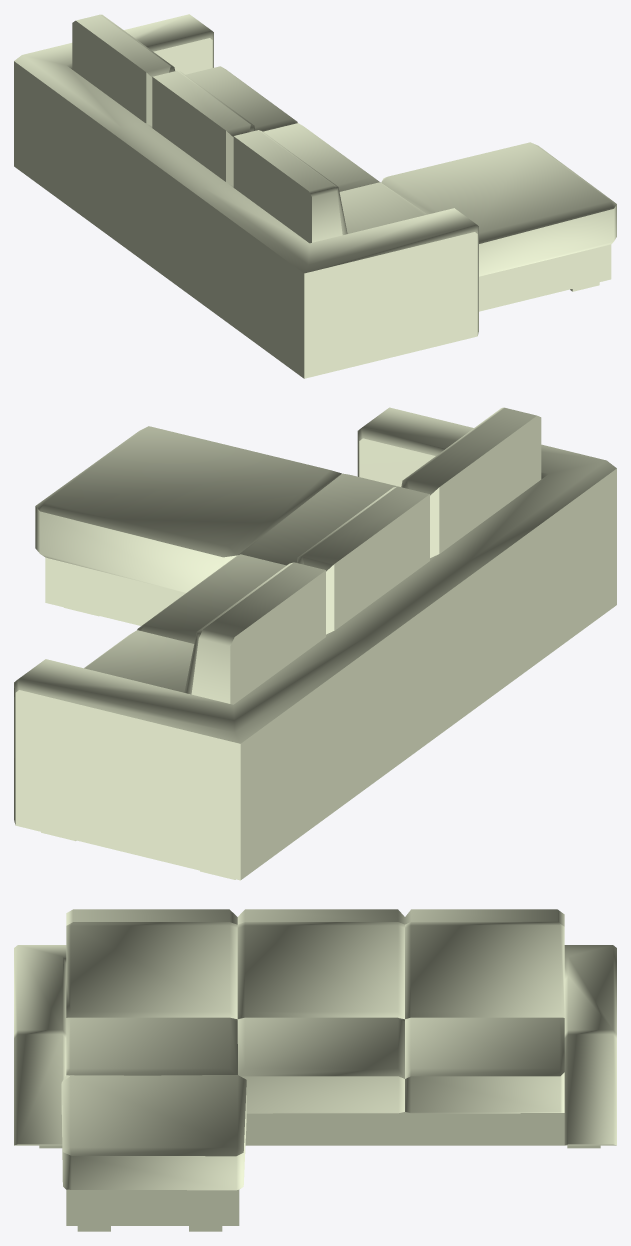
Rendered from cotf_couch.FBX.
3 views of the same model, one above another, from view 1: azimuth 30°, elevation 25°; view 2: azimuth 150°, elevation 25°; view 3: azimuth 270°, elevation 25° (orthographic). The views are drawn at different scales.
Visible parts, largest first — view 1: cotf_couch; view 2: cotf_couch; view 3: cotf_couch.
Part boxes in pixels (bbox=[...]): cotf_couch: bbox=[14, 14, 616, 378]; cotf_couch: bbox=[14, 407, 616, 880]; cotf_couch: bbox=[14, 909, 616, 1231].
Bounding box in the file's own units: 2.66 × 1.24 × 3.91.
